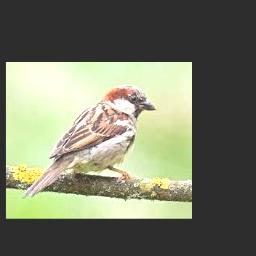Sparrow: (23, 85, 157, 198)
